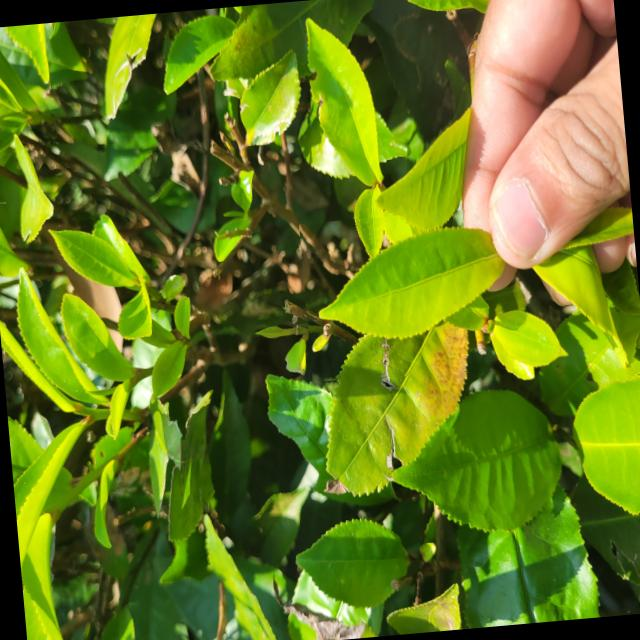Catagory A(1-2 days): (298, 206, 517, 386)
